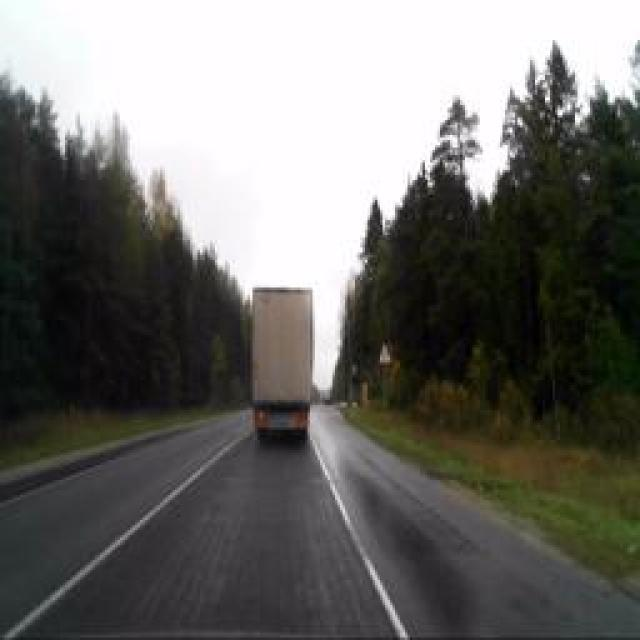sign: (376, 342, 392, 370)
